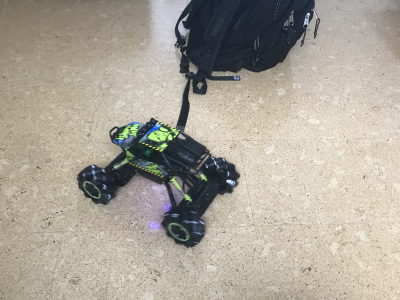remote control car: (75, 118, 242, 248)
